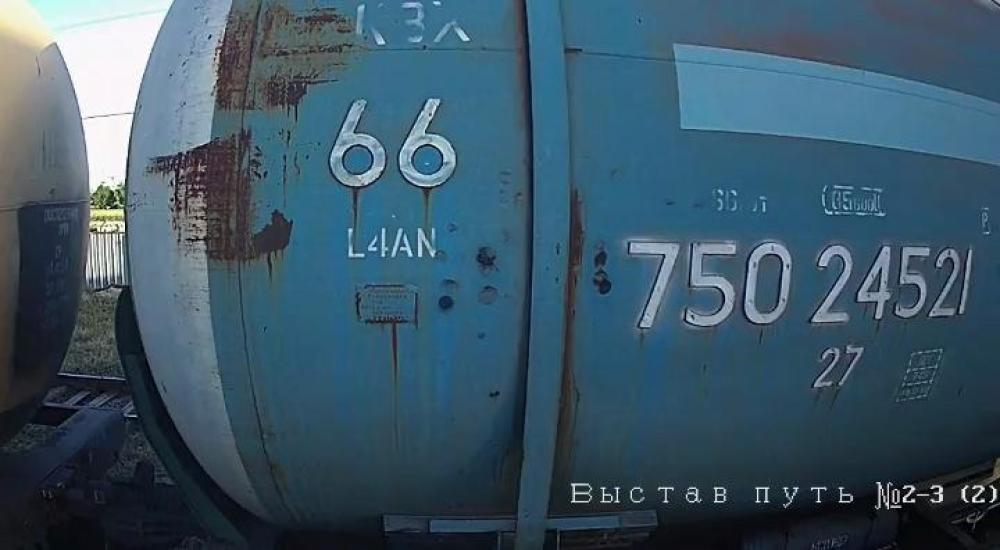Wagon-number: (620, 234, 978, 334)
